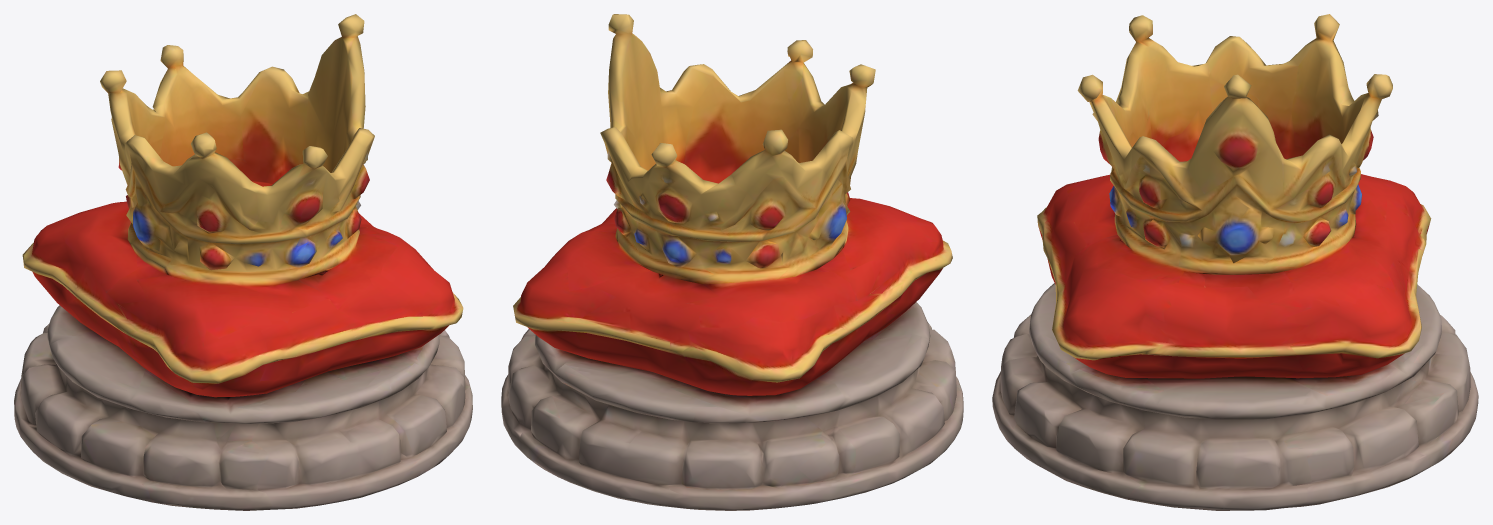
Rendered from crown_display.glb.
3 renders of one model, left to right at view 1: azimuth 30°, elevation 25°; view 2: azimuth 150°, elevation 25°; view 3: azimuth 270°, elevation 25°, orthographic. The views are drawn at different scales.
Visible parts, largest first — view 1: tripo_node_f081a60d-24d1-4e6d-bc04-552585219f5a; view 2: tripo_node_f081a60d-24d1-4e6d-bc04-552585219f5a; view 3: tripo_node_f081a60d-24d1-4e6d-bc04-552585219f5a.
Part boxes in pixels (x1,y1,x2,y2): tripo_node_f081a60d-24d1-4e6d-bc04-552585219f5a: (14,14,472,510); tripo_node_f081a60d-24d1-4e6d-bc04-552585219f5a: (501,14,963,510); tripo_node_f081a60d-24d1-4e6d-bc04-552585219f5a: (992,14,1478,510).
Bounding box in the file's own units: 0.3387 × 0.3 × 0.3395.
1 material, 1 textured.
